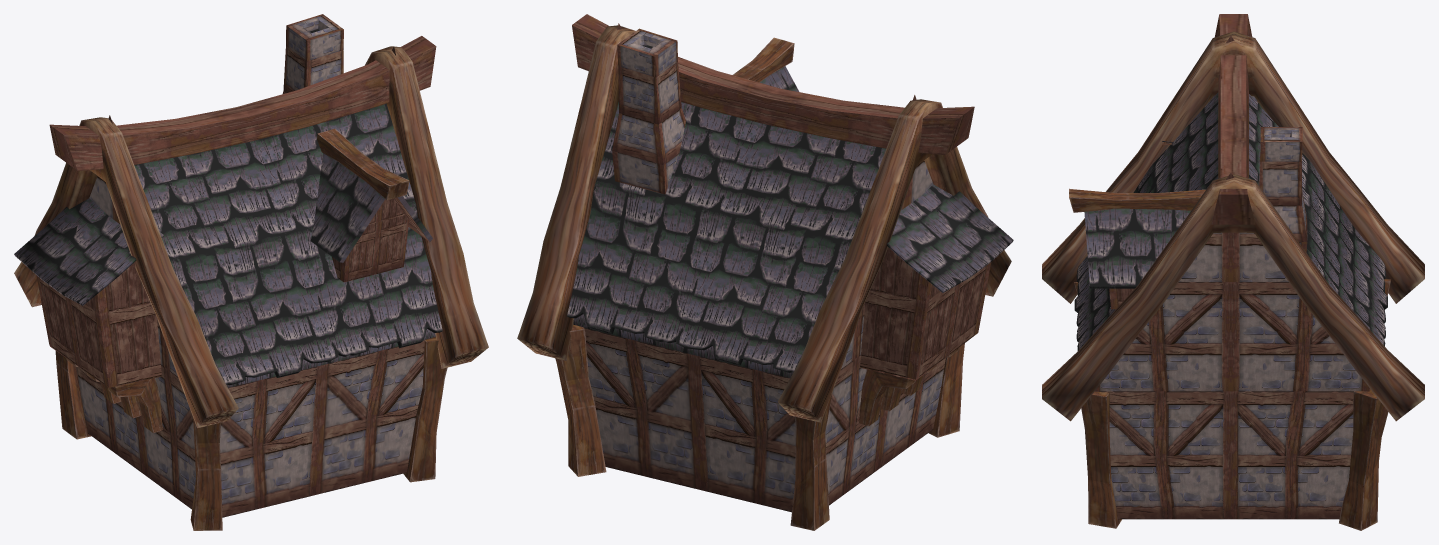
File: house05.fbx
3 views of the same model, side by side, from view 1: azimuth 30°, elevation 25°; view 2: azimuth 150°, elevation 25°; view 3: azimuth 270°, elevation 25° (orthographic). The views are drawn at different scales.
Visible parts, largest first — view 1: casa5; view 2: casa5; view 3: casa5.
Boxes of the visible parts, left/top/right/bottom form: casa5: left=14, top=14, right=488, bottom=530; casa5: left=517, top=14, right=1013, bottom=530; casa5: left=1042, top=14, right=1424, bottom=530.
Bounding box in the file's own units: 448 × 435 × 394.
